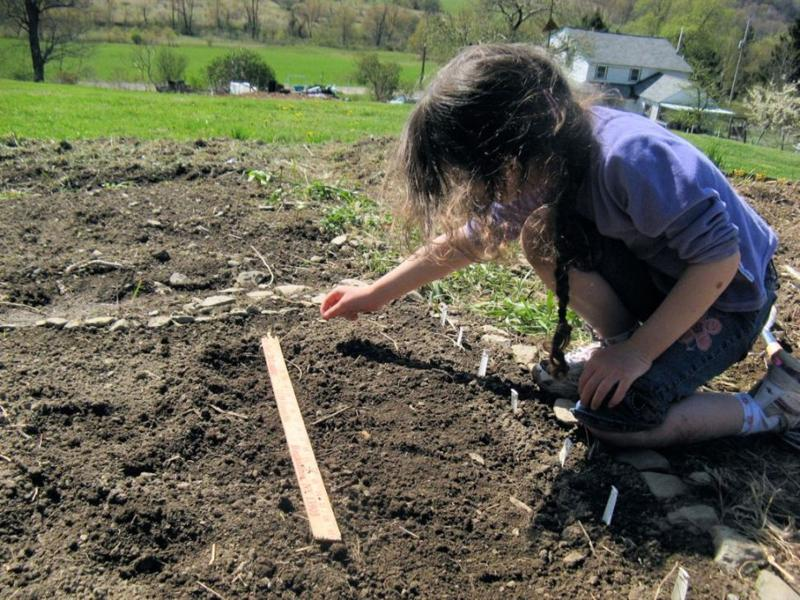person: (320, 44, 799, 447)
